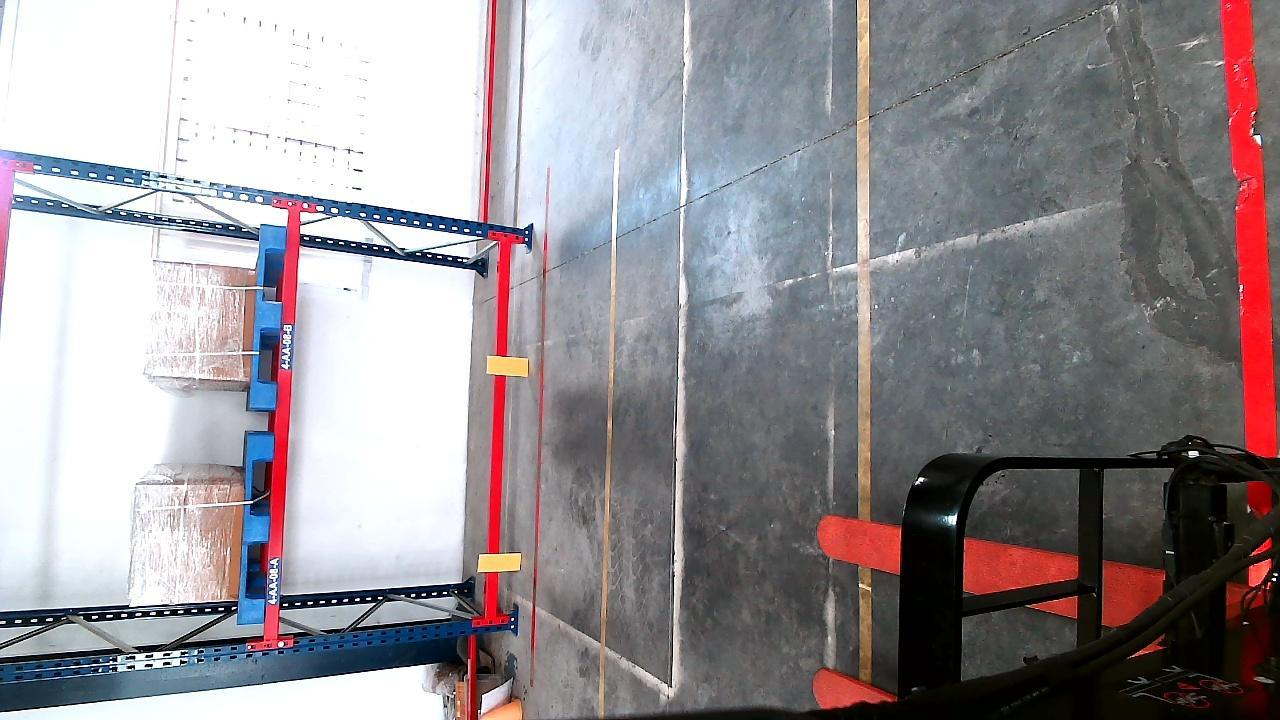red_line: (1214, 0, 1280, 453), (523, 164, 556, 685)
yellow_line: (595, 141, 624, 720), (853, 0, 875, 503)
